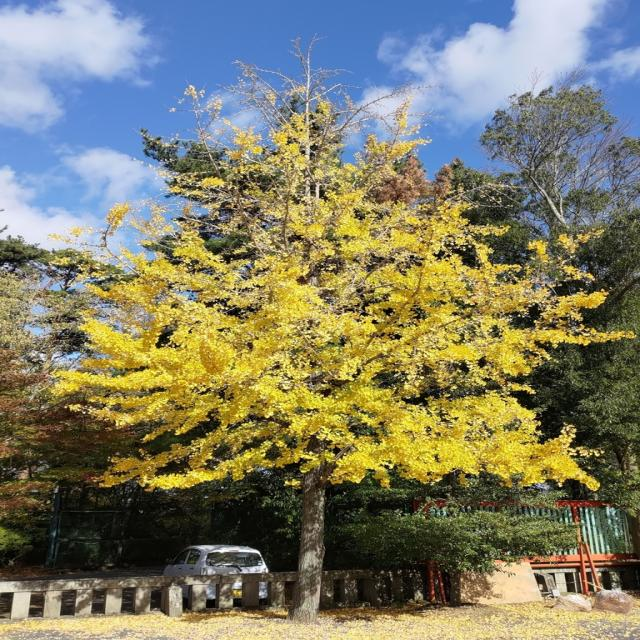ginkgo: (45, 65, 636, 622)
